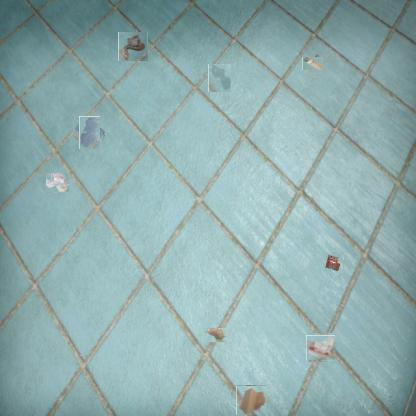dirty: (236, 385, 267, 415), (118, 32, 148, 61), (307, 334, 334, 361), (45, 172, 69, 192), (323, 252, 343, 272), (204, 328, 226, 342), (304, 55, 322, 72)
liquid: (76, 119, 103, 146), (208, 64, 231, 92)
